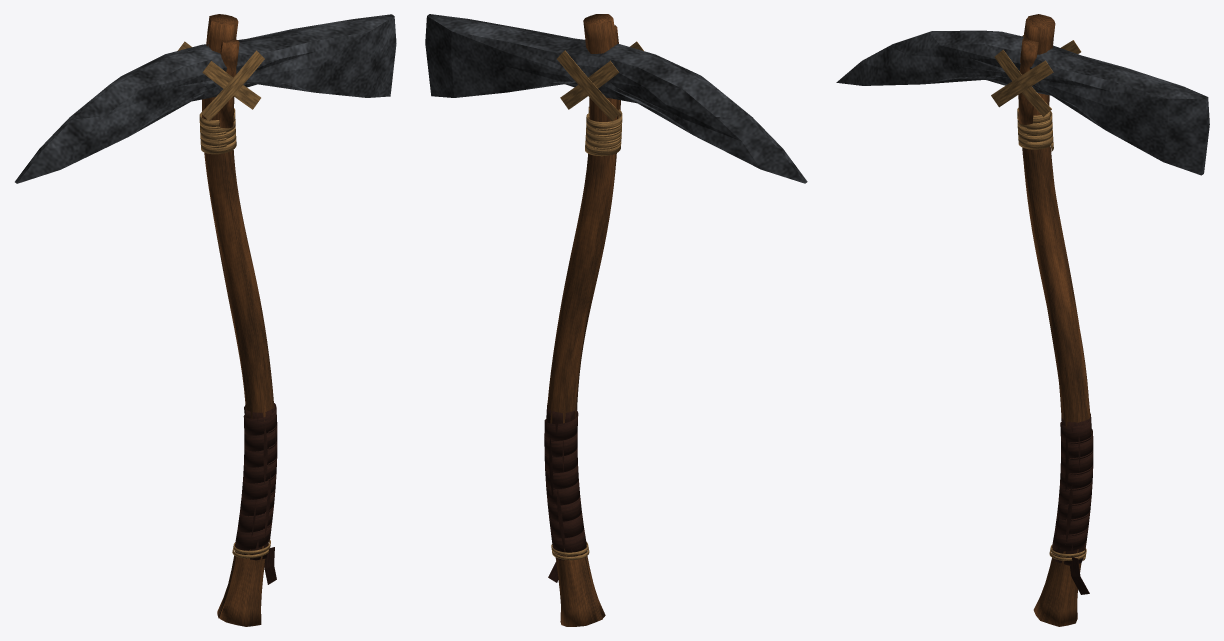
The model's file is stone_pickaxe.glb.
3 views of the same model, side by side, from view 1: azimuth 30°, elevation 25°; view 2: azimuth 150°, elevation 25°; view 3: azimuth 330°, elevation 25° (orthographic). The views are drawn at different scales.
Visible parts, largest first — view 1: stone_pickaxe_stone, stone_pickaxe_wood, stone_pickaxe_leather, stone_pickaxe_fiber; view 2: stone_pickaxe_stone, stone_pickaxe_wood, stone_pickaxe_leather, stone_pickaxe_fiber; view 3: stone_pickaxe_stone, stone_pickaxe_wood, stone_pickaxe_leather, stone_pickaxe_fiber.
Boxes of the visible parts, x1=… form: stone_pickaxe_stone: x1=15, y1=14, x2=396, y2=183; stone_pickaxe_wood: x1=202, y1=14, x2=274, y2=626; stone_pickaxe_leather: x1=235, y1=403, x2=277, y2=584; stone_pickaxe_fiber: x1=177, y1=41, x2=270, y2=558; stone_pickaxe_stone: x1=425, y1=14, x2=807, y2=183; stone_pickaxe_wood: x1=547, y1=14, x2=620, y2=626; stone_pickaxe_leather: x1=544, y1=403, x2=587, y2=582; stone_pickaxe_fiber: x1=551, y1=41, x2=643, y2=560; stone_pickaxe_stone: x1=836, y1=30, x2=1209, y2=175; stone_pickaxe_wood: x1=1018, y1=14, x2=1091, y2=626; stone_pickaxe_leather: x1=1051, y1=413, x2=1093, y2=594; stone_pickaxe_fiber: x1=991, y1=35, x2=1086, y2=560.
Size of the model in its own units: 0.646 by 0.9902 by 0.0909.
4 materials, 4 textured.
